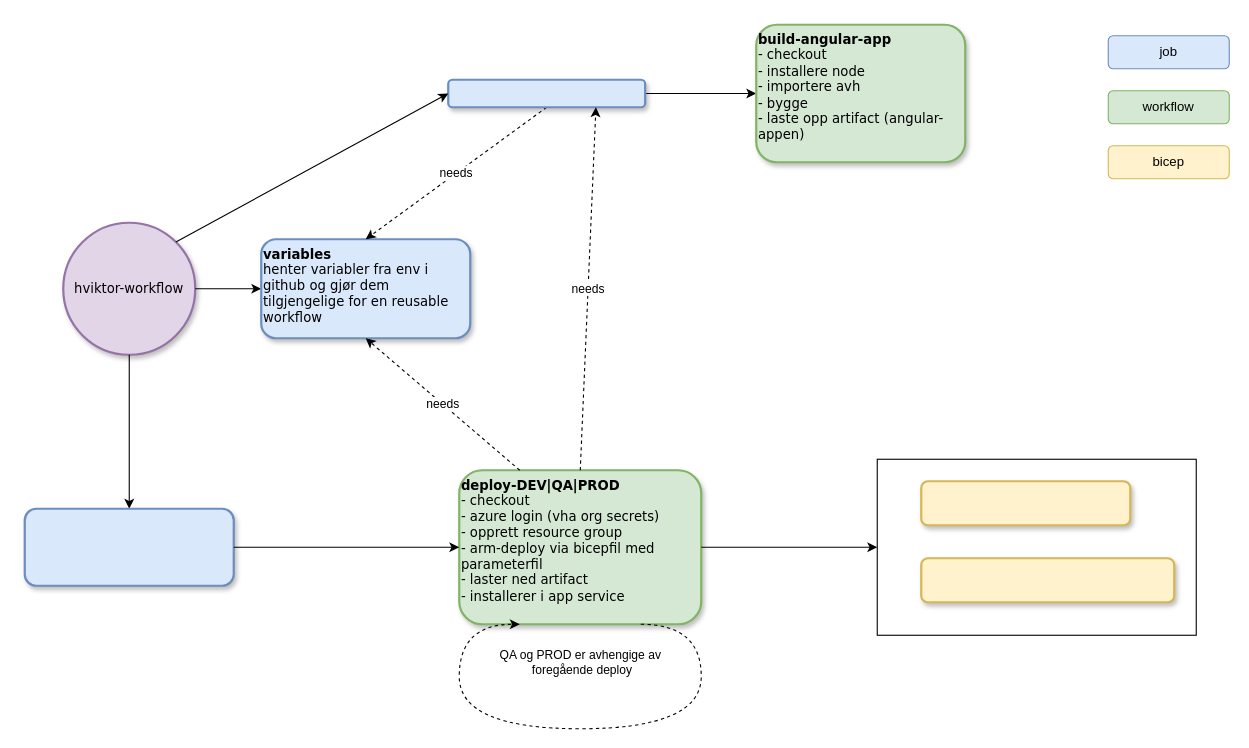
This 1249x748 diagram has some shape labels left out. Here are the shapes that lost their labels. From the top down, the centre of each, then its label:
the point at 547,95: build-angular-app
the point at 1026,504: azure-config - infrastruktur
the point at 130,548: deploy bruker secrets:inherit for å gjøre org.secrets tilgjengelig for workflow
the point at 1048,581: azure-config.DEV|QA|PROD .json - parameter for infrastruktur
